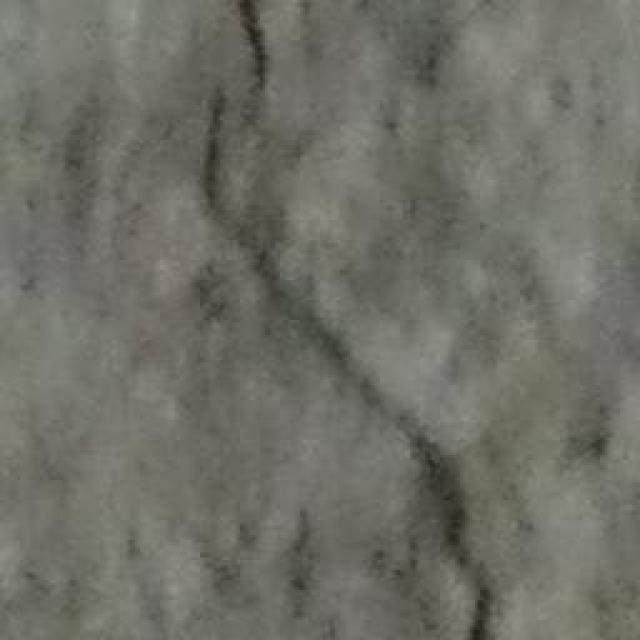Longitudinal: (197, 0, 520, 640)
